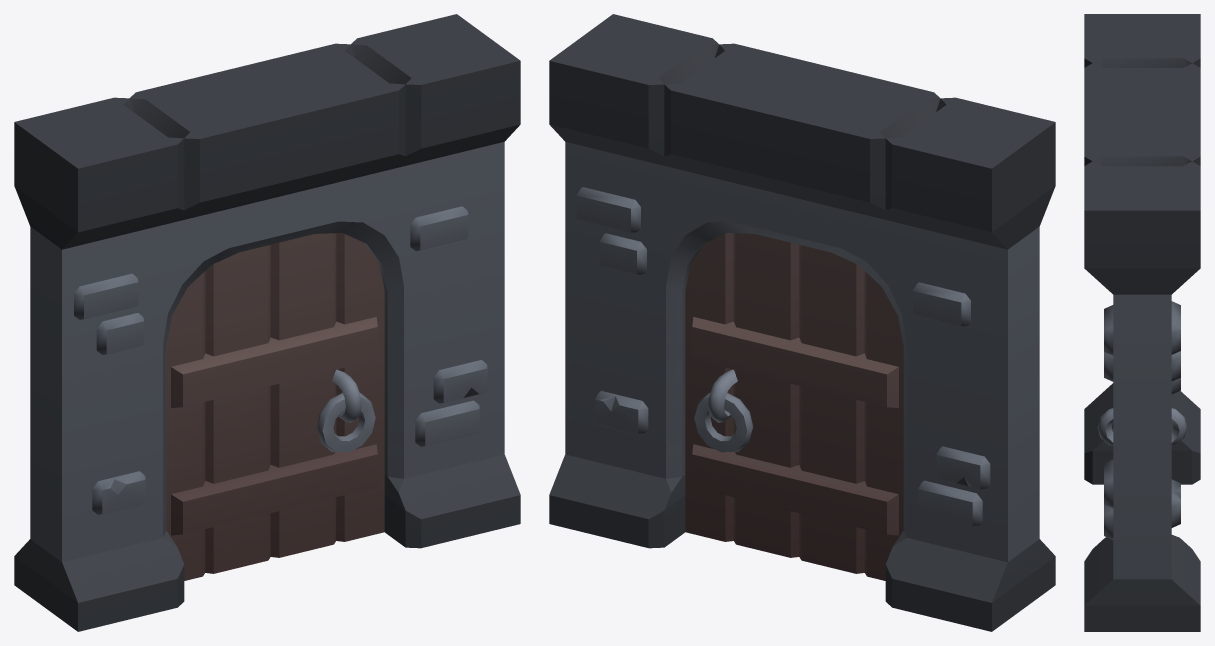
The model's file is wall_doorway.glb.
3 renders of one model, left to right at view 1: azimuth 30°, elevation 25°; view 2: azimuth 150°, elevation 25°; view 3: azimuth 270°, elevation 25°, orthographic. The views are drawn at different scales.
Visible parts, largest first — view 1: wall_doorway, wall_doorway_door; view 2: wall_doorway, wall_doorway_door; view 3: wall_doorway, wall_doorway_door.
Part boxes in pixels (<box>): wall_doorway: <box>14,14,520,631</box>; wall_doorway_door: <box>166,233,384,580</box>; wall_doorway: <box>549,14,1055,631</box>; wall_doorway_door: <box>685,233,903,580</box>; wall_doorway: <box>1084,14,1200,631</box>; wall_doorway_door: <box>1097,408,1187,445</box>.
Bounding box in the file's own units: 4 × 4 × 1.
1 material, 1 textured.
